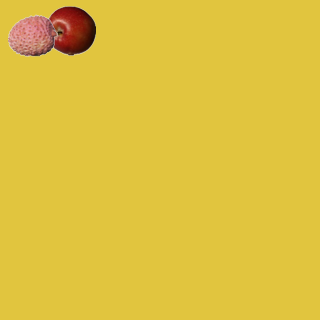Apple Braeburn: (45, 5, 95, 55)
Lychee: (7, 10, 57, 60)
